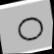no answer: (5, 12, 49, 48)
